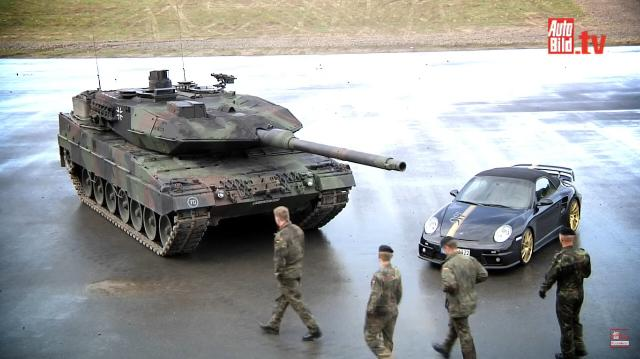other: (272, 201, 304, 341), (364, 244, 400, 350), (555, 231, 585, 354), (442, 239, 472, 348)
tank: (58, 86, 342, 215)
